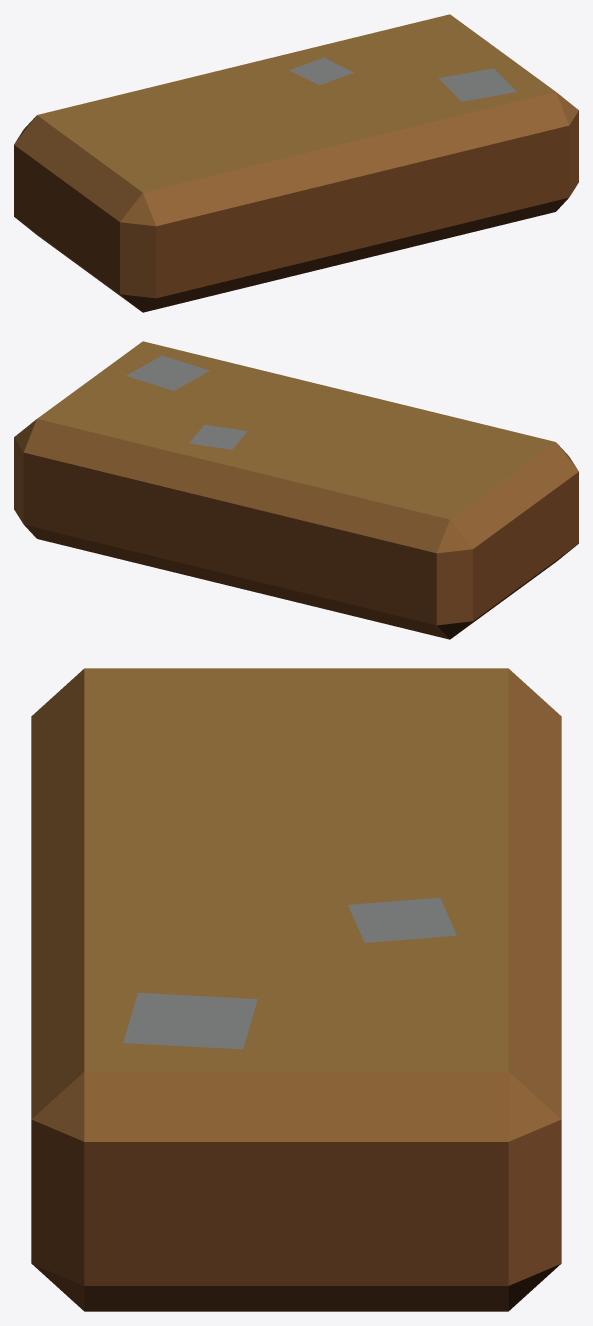
Rendered from m_kub_dirt_flatBrick.FBX.
3 renders of one model, top to bottom at view 1: azimuth 30°, elevation 25°; view 2: azimuth 150°, elevation 25°; view 3: azimuth 270°, elevation 25°, orthographic. The views are drawn at different scales.
Visible parts, largest first — view 1: m_kub_dirt_flatBrick; view 2: m_kub_dirt_flatBrick; view 3: m_kub_dirt_flatBrick.
Part boxes in pixels (bbox=[...]): m_kub_dirt_flatBrick: bbox=[14, 14, 578, 312]; m_kub_dirt_flatBrick: bbox=[14, 341, 578, 639]; m_kub_dirt_flatBrick: bbox=[31, 668, 561, 1311].
Bounding box in the file's own units: 2 × 0.5 × 1.
